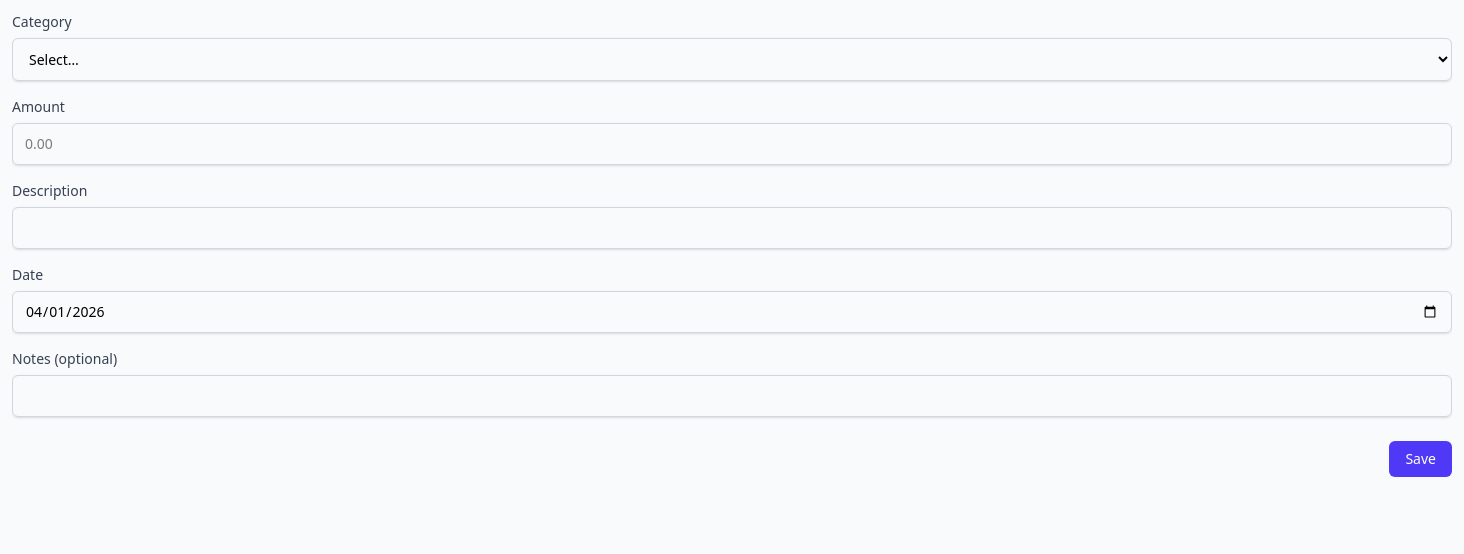
Test: ExpenseForm › shows error when description is empty
Click the button "Save". click: point(1421, 459)
box: [1389,441,1452,477]
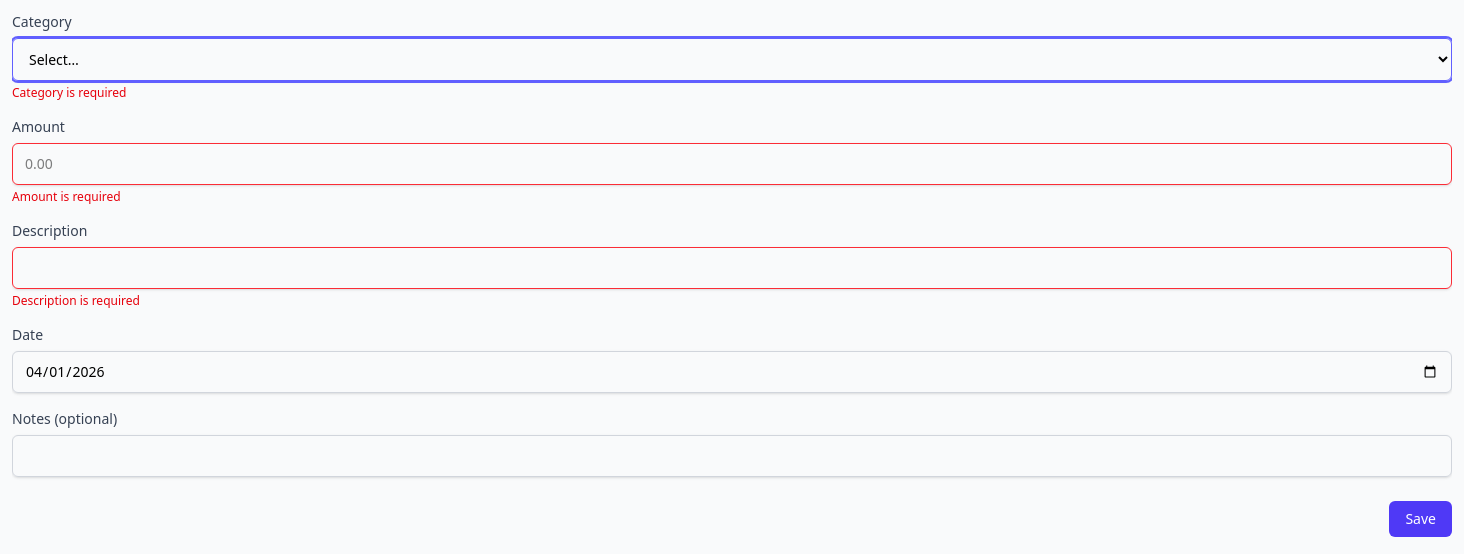
Result: the text "Description is required" is shown at [12,292,140,309]
